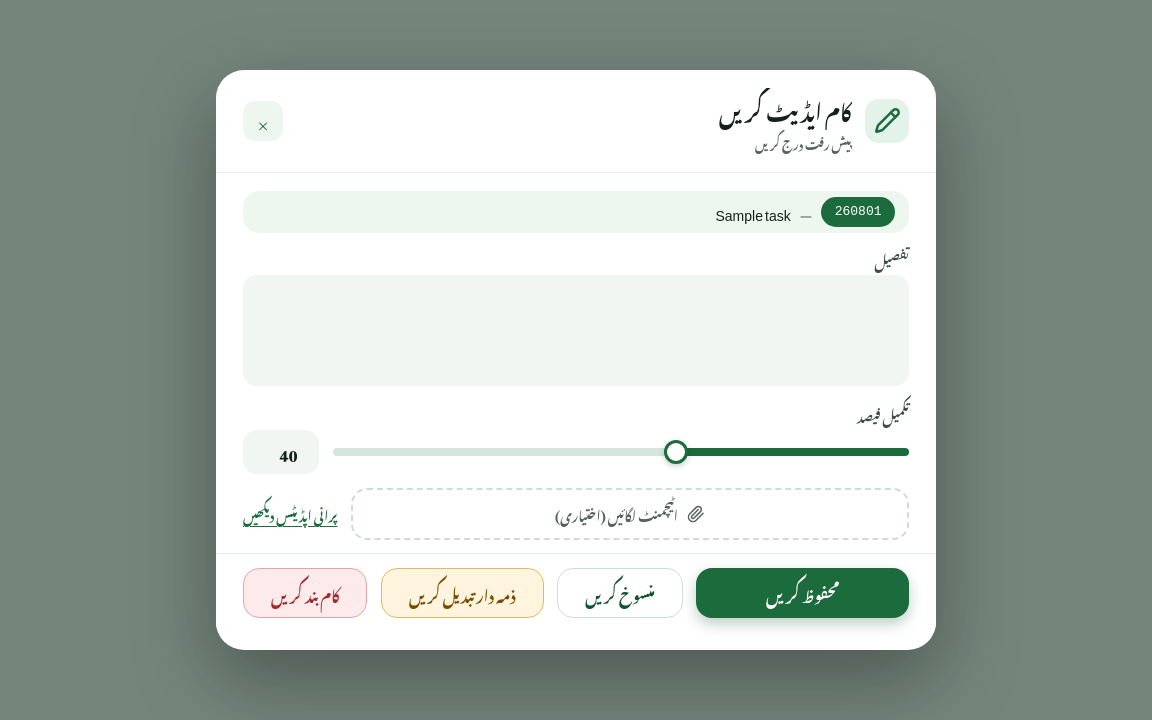
Test case: UpdateModal (docs/08-ui-ux.md §7, docs/09-frontend-features.md §3) › Change Assignee footer button › opens the inline confirmation question first, before any dropdown is shown
expect the text "Sample task" is shown: met, box [716,194,791,229]
Click the button "ذمہ دار تبدیل کریں".
click(462, 593)  # box [381,568,544,618]
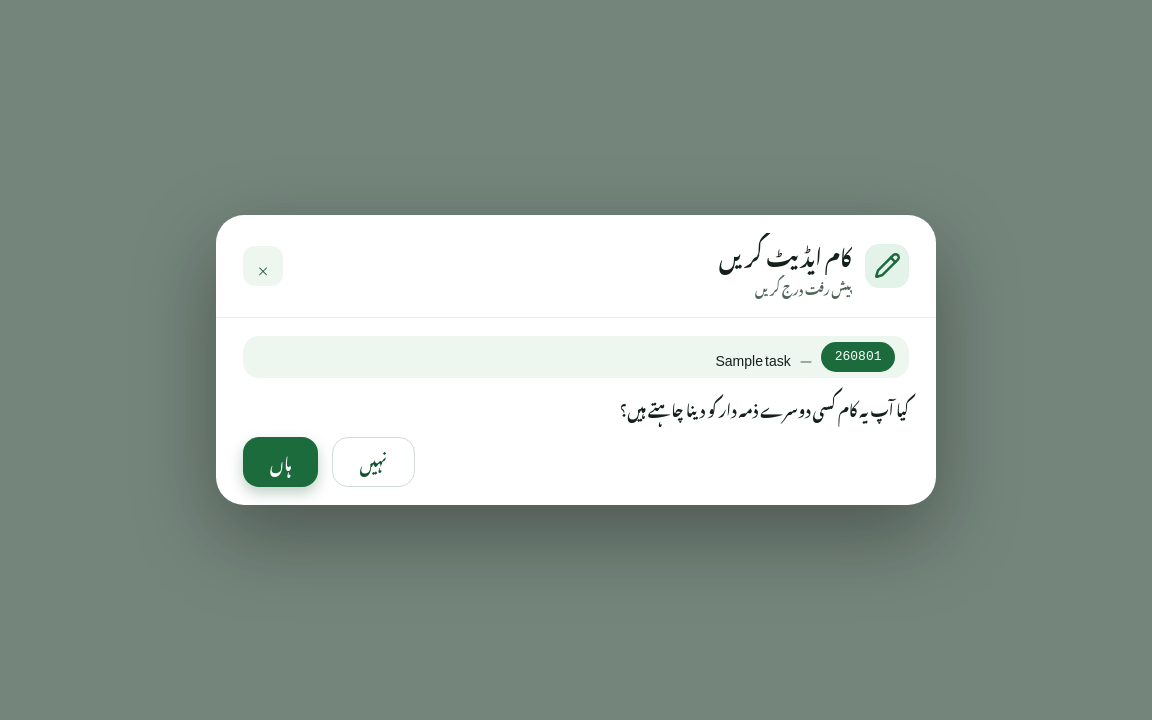
expect the text "کیا آپ یہ کام کسی دوسرے ذمہ دار کو دینا چاہتے ہیں؟" is shown: met, box [620,388,909,426]
